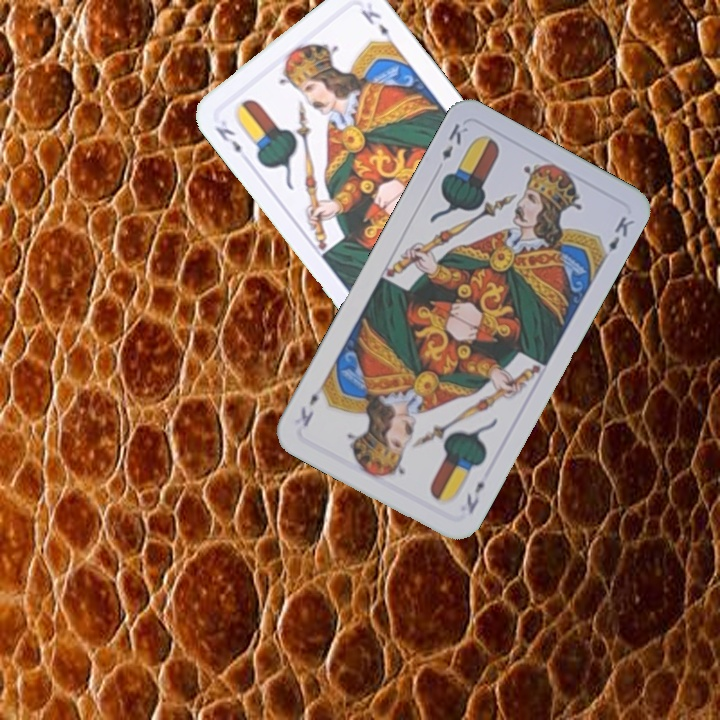EK: (438, 119, 471, 163), (211, 122, 244, 156), (462, 477, 488, 517)
